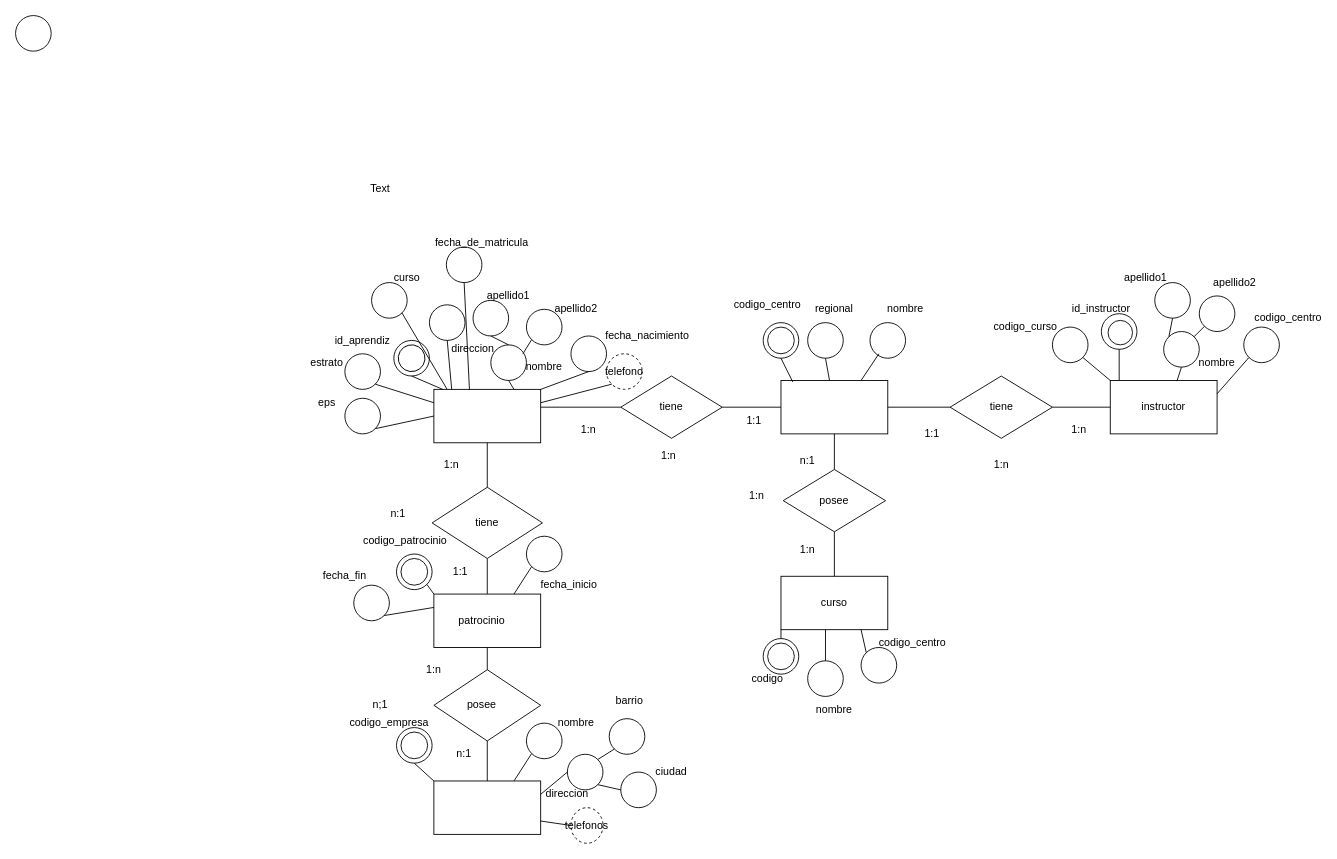
The diagram is 1337 pixels wide and 859 high, and some of its shapes have lost their labels. The centre of each missing label's shape, as x and y in pixels:
"aprendiz" belongs at [487,415].
"centrofromacion" belongs at [834,407].
"empresa_patrocinio" belongs at [487,807].
